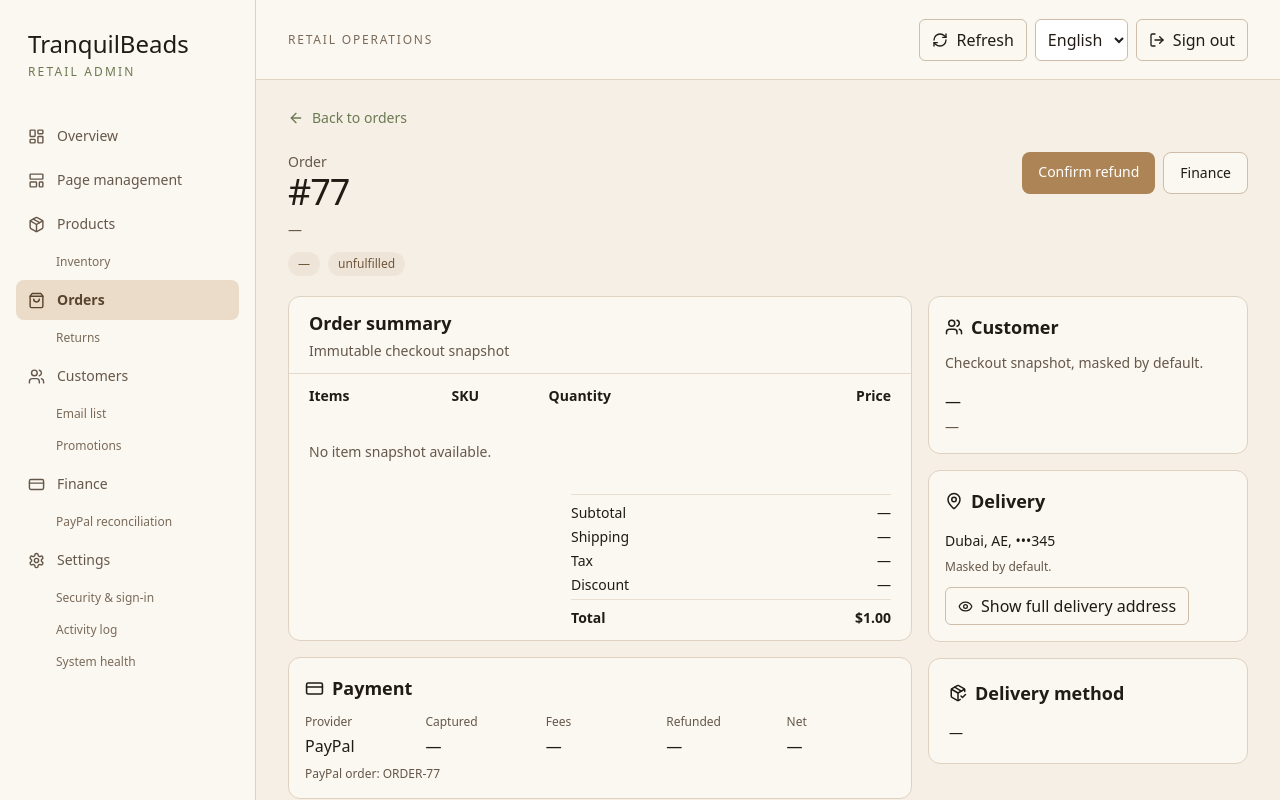
retail admin console › keeps delivery redacted until a permitted full-address request succeeds
This screenshot has width=1280, height=800.
Expected: the text "1 Test Road" is not shown
Click the button "Show full delivery address" at (1067,606), box x1=945 y1=587 x2=1189 y2=625
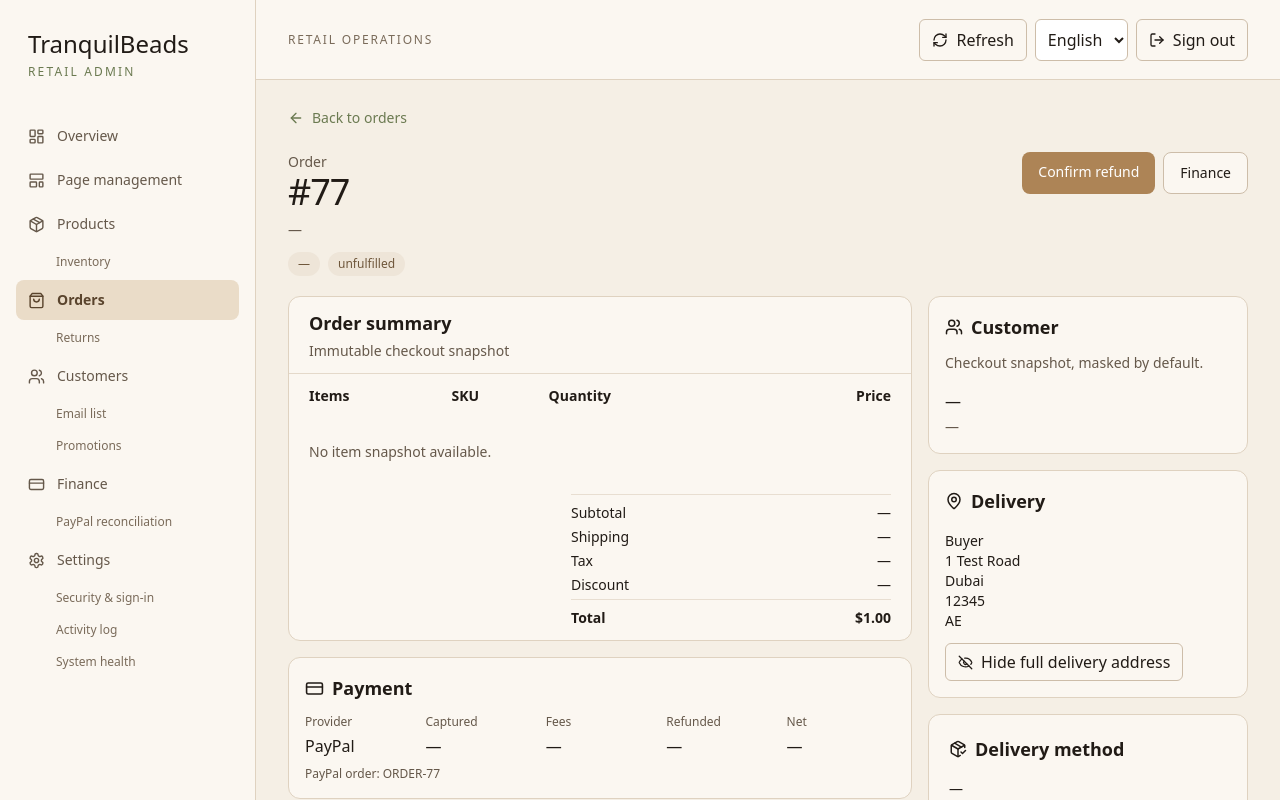
Expected: the text "1 Test Road" is shown, x1=945 y1=551 x2=1020 y2=570
Expected: the button "Hide full delivery address" is shown, x1=945 y1=643 x2=1183 y2=681
